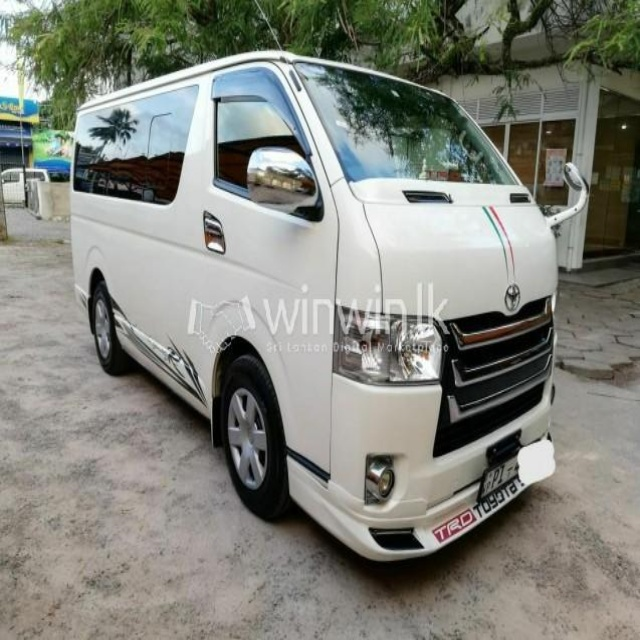Van: (70, 51, 589, 568)
